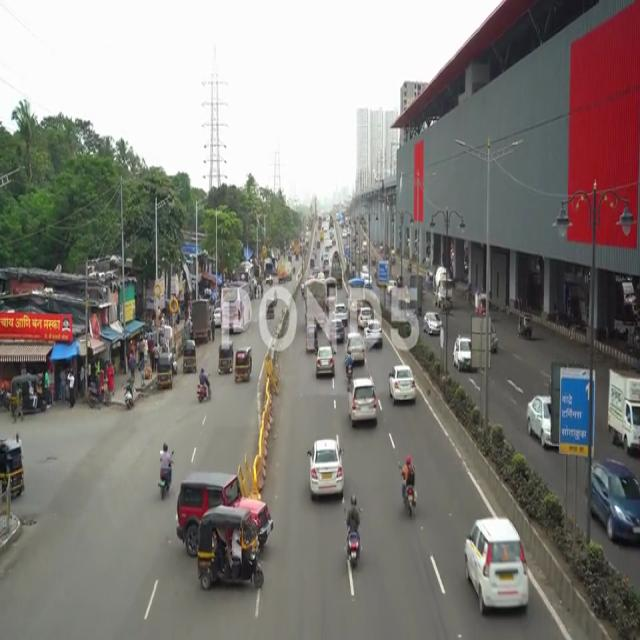car: (461, 513, 532, 620), (593, 454, 640, 549), (306, 436, 347, 498), (387, 360, 417, 408), (349, 379, 378, 426), (316, 344, 336, 378)
motorbike: (343, 492, 363, 572), (397, 449, 418, 525), (155, 439, 173, 497), (194, 367, 214, 402)
rikshaw: (200, 506, 267, 596), (234, 346, 254, 383)
truck: (605, 367, 640, 452)
